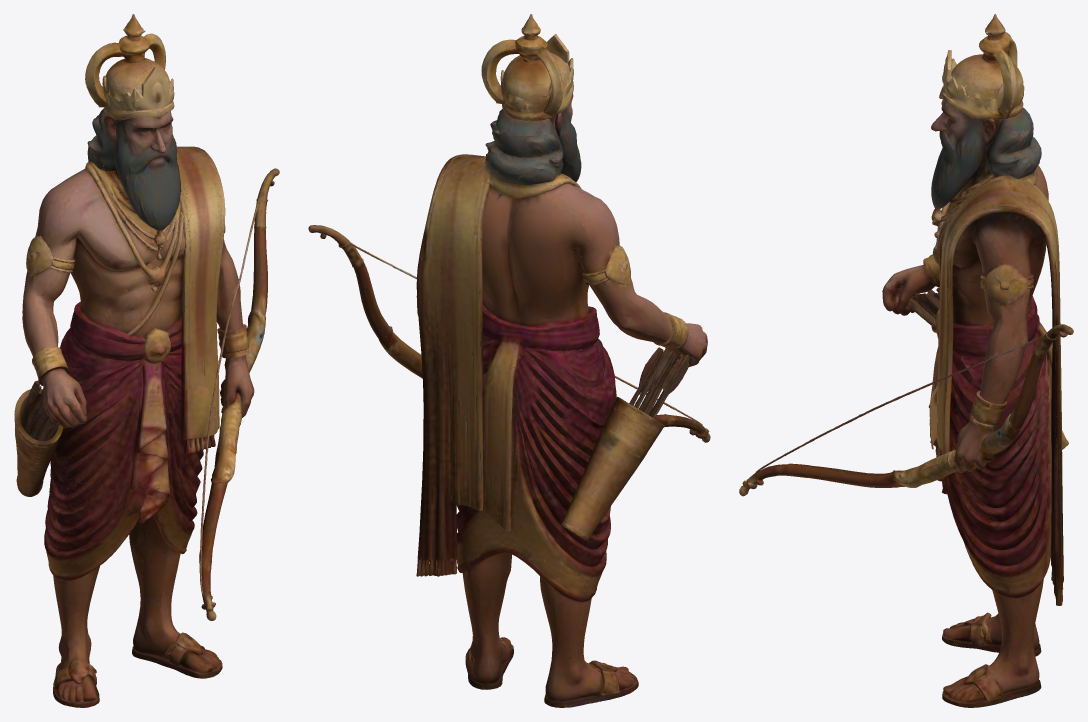
The model's file is king_tissa.glb.
The picture shows the model from 3 angles, left to right: view 1: azimuth 30°, elevation 25°; view 2: azimuth 150°, elevation 25°; view 3: azimuth 270°, elevation 25°; orthographic projection.
Parts seen in each view (by area): view 1: node_0; view 2: node_0; view 3: node_0.
Part boxes in pixels (x1,y1,x2,y2): node_0: (14, 14, 279, 707); node_0: (308, 14, 710, 707); node_0: (739, 14, 1073, 707).
Bounding box in the file's own units: 0.5475 × 1.1 × 0.5066.
Materials: 1 (1 with a texture image).
